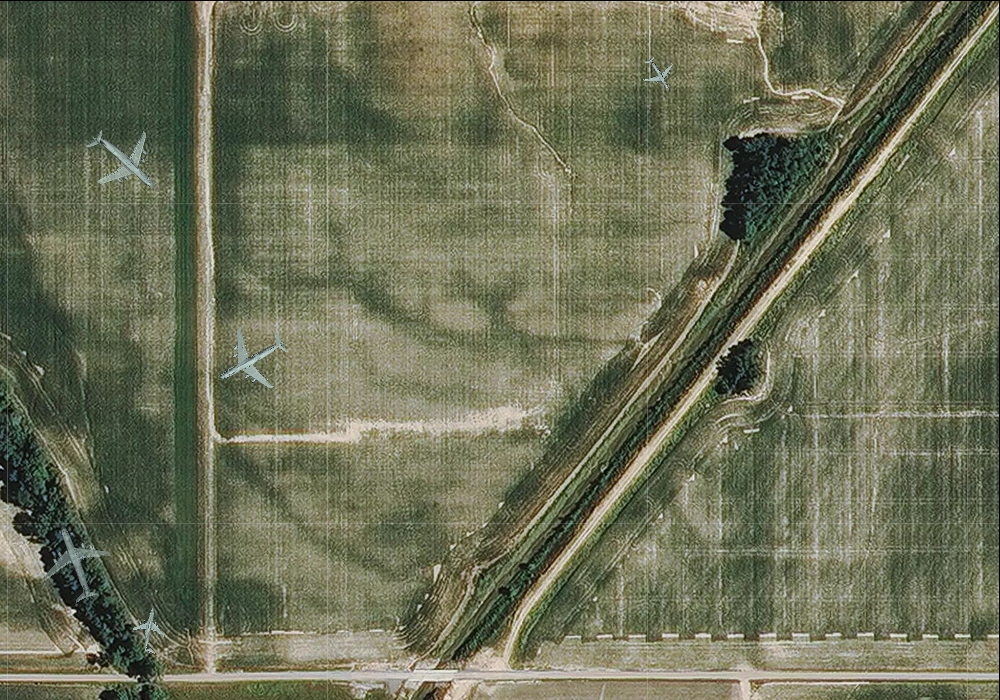plane: (68, 106, 177, 215), (25, 513, 123, 613), (202, 311, 301, 407), (126, 604, 174, 657), (634, 48, 683, 98)
